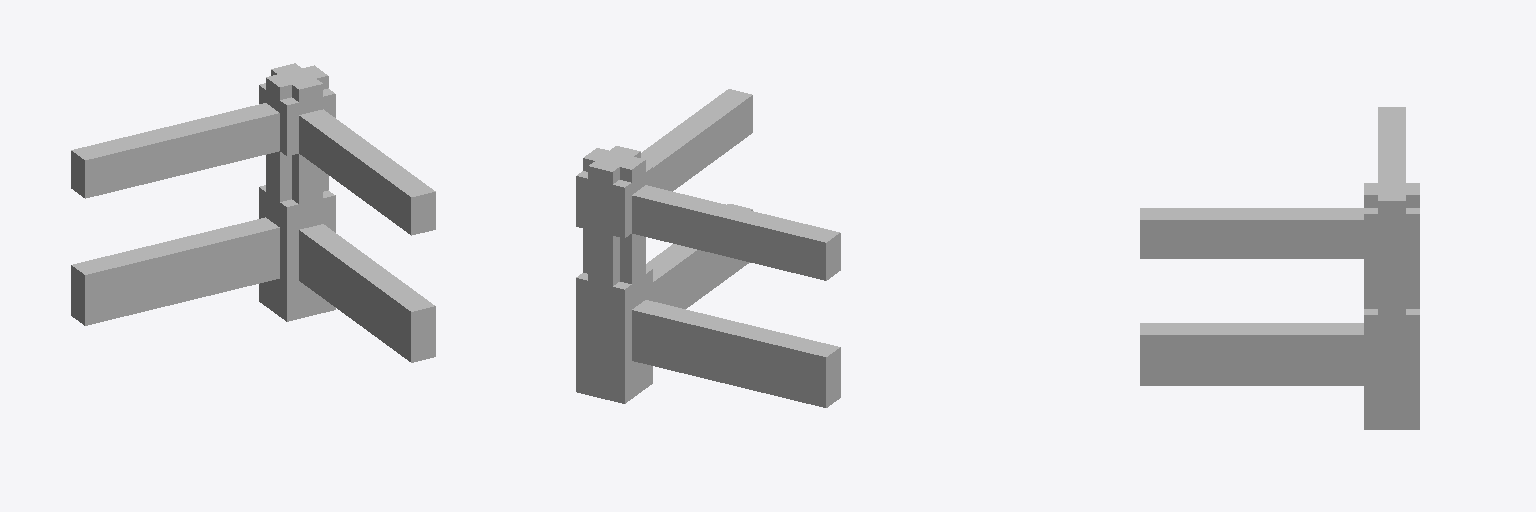
Rendered from fence_corner.obj.
3 renders of one model, left to right at view 1: azimuth 30°, elevation 25°; view 2: azimuth 150°, elevation 25°; view 3: azimuth 270°, elevation 25°, orthographic.
Parts seen in each view (by area): view 1: Untitled; view 2: Untitled; view 3: Untitled.
Boxes of the visible parts, x1,y1,x2,y2 form: Untitled: [71, 63, 435, 362]; Untitled: [576, 89, 840, 407]; Untitled: [1140, 107, 1419, 429].
Bounding box in the file's own units: 2 × 1.8 × 2.